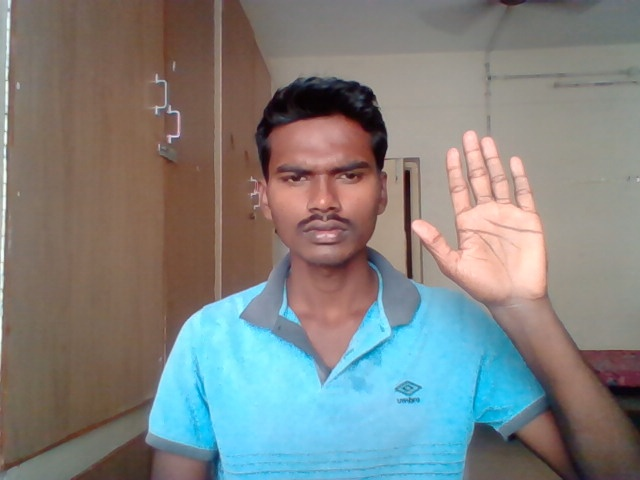Hello: (411, 128, 553, 304)
